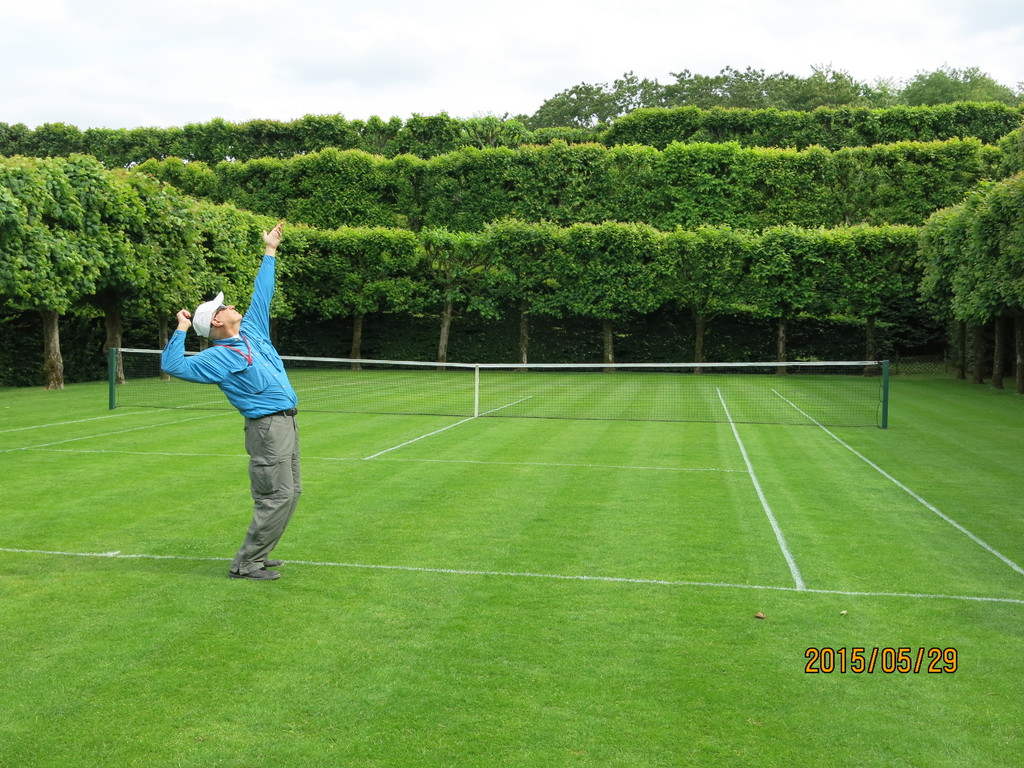Person: (160, 220, 303, 581)
